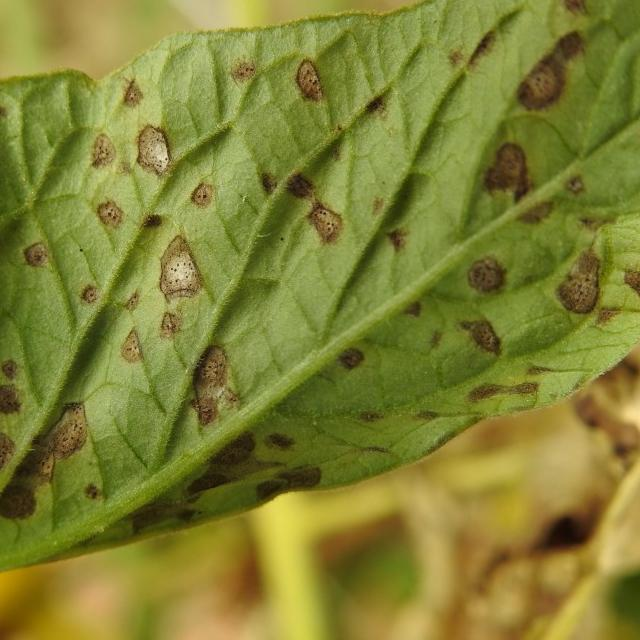Tomato Septoria leaf spot: (0, 0, 640, 620)
